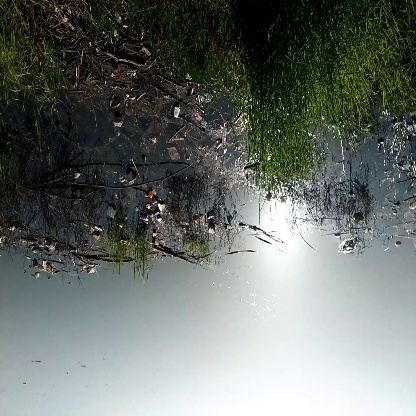branch: (32, 163, 194, 194)
